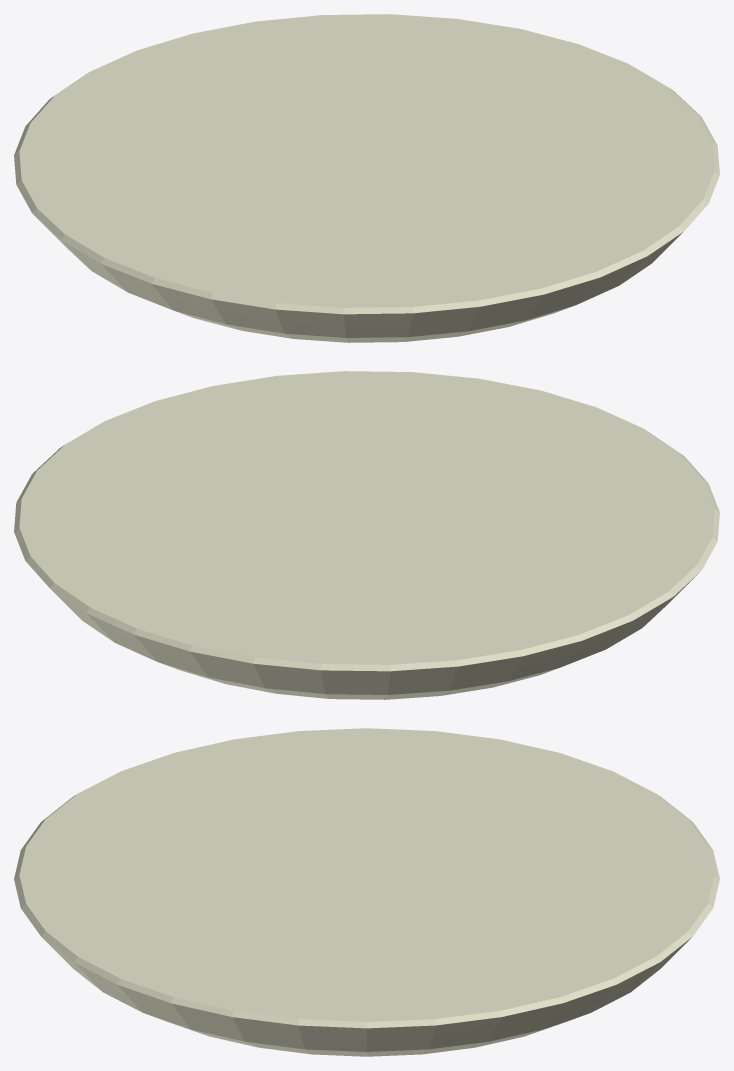
Rendered from Socate.fbx.
3 views of the same model, one above another, from view 1: azimuth 30°, elevation 25°; view 2: azimuth 150°, elevation 25°; view 3: azimuth 270°, elevation 25° (orthographic).
Visible parts, largest first — view 1: Socate; view 2: Socate; view 3: Socate.
Boxes of the visible parts, x1,y1,x2,y2 form: Socate: [14, 14, 719, 342]; Socate: [14, 371, 719, 699]; Socate: [14, 728, 719, 1056].
Size of the model in its own units: 200 by 31.53 by 200.
